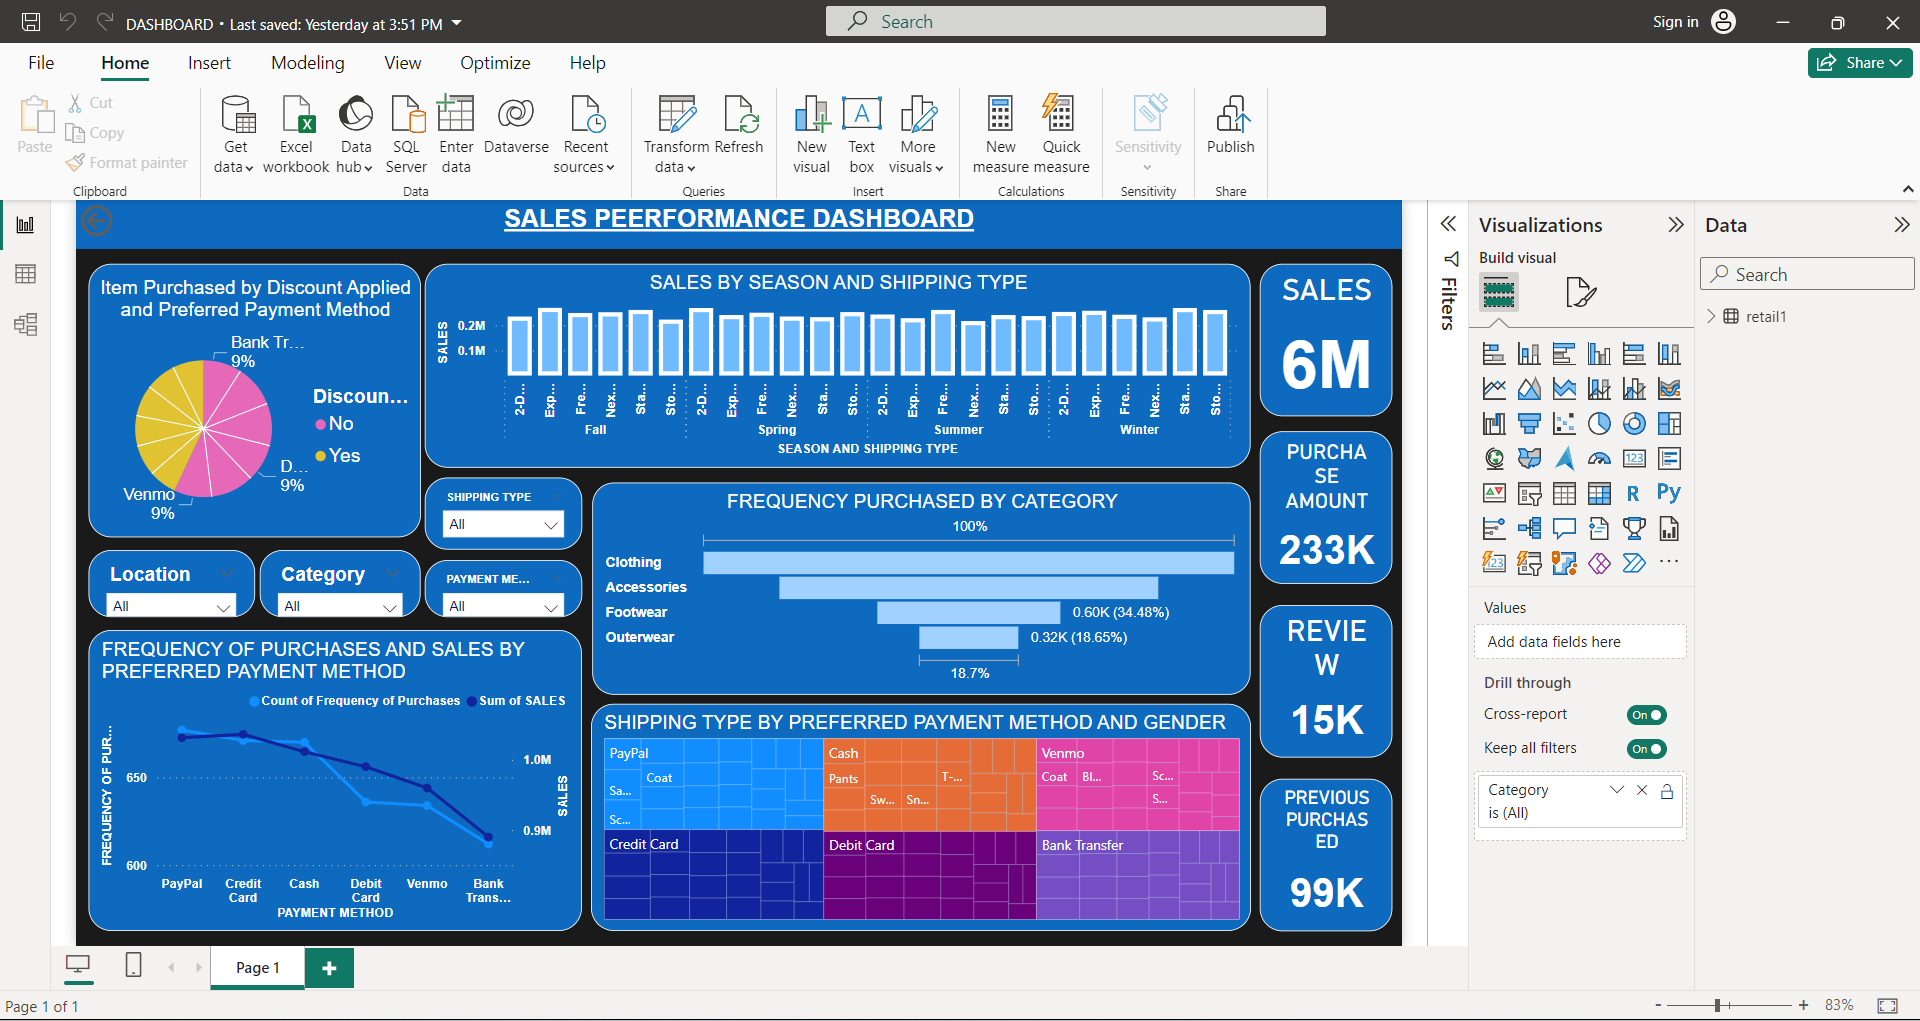

What the dashboard file says about the page in this screenshot:
{"tool":"powerbi","page":{"name":"Page 1","canvas":[1280,720],"ordinal":0},"visuals":[{"type":"textbox","box":[0,0,1279.6,47],"z":0},{"type":"card","title":"SALES","fields":{"Values":["Sum(retail1.SALES)"]},"box":[1142.1,61.5,127.8,147.1],"z":1000},{"type":"card","title":"REVIEW","fields":{"Values":["Sum(retail1.Review Rating)"]},"box":[1142.1,390.8,127.8,147.1],"z":2000},{"type":"card","title":"PURCHASE AMOUNT","fields":{"Values":["Sum(retail1.Purchase Amount (USD))"]},"box":[1142.1,223.1,127.8,147.1],"z":3000},{"type":"card","title":"PREVIOUS PURCHASED","fields":{"Values":["Sum(retail1.Previous Purchases)"]},"box":[1142.1,558.4,127.8,147.1],"z":4000},{"type":"lineStackedColumnComboChart","title":"SALES BY SEASON AND SHIPPING TYPE","fields":{"Category":["retail1.Season","retail1.Shipping Type"],"Y":["Sum(retail1.SALES)"]},"box":[336.5,61.5,797.2,196.6],"z":5000},{"type":"pieChart","title":"Item Purchased by Discount Applied and Preferred Payment Method","fields":{"Category":["retail1.Discount Applied"],"Y":["CountNonNull(retail1.Item Purchased)"],"Series":["retail1.Preferred Payment Method"]},"box":[12.1,61.5,320.8,264.1],"z":6000},{"type":"lineChart","title":"FREQUENCY OF PURCHASES AND SALES BY PREFERRED PAYMENT METHOD","fields":{"Y":["CountNonNull(retail1.Frequency of Purchases)"],"Category":["retail1.Preferred Payment Method"],"Y2":["Sum(retail1.SALES)"]},"box":[12.1,414.9,476.4,290.7],"z":7000},{"type":"treemap","title":"SHIPPING TYPE BY PREFERRED PAYMENT METHOD AND GENDER","fields":{"Group":["retail1.Preferred Payment Method"],"Values":["CountNonNull(retail1.Shipping Type)"],"Details":["retail1.Item Purchased"]},"box":[496.9,486,636.8,219.5],"z":8000},{"type":"actionButton","box":[0,0,100,40],"z":9000},{"type":"slicer","fields":{"Values":["retail1.Location"]},"box":[12.1,337.7,160.4,65.1],"z":10000},{"type":"slicer","fields":{"Values":["retail1.Category"]},"box":[177.3,337.7,155.6,65.1],"z":11000},{"type":"funnel","title":"FREQUENCY PURCHASED BY CATEGORY","fields":{"Category":["retail1.Category"],"Y":["CountNonNull(retail1.Frequency of Purchases)"]},"box":[498.1,272.6,635.6,205],"z":12000},{"type":"slicer","fields":{"Values":["retail1.Shipping Type"]},"box":[336.5,267.7,152,69.9],"z":13000},{"type":"slicer","fields":{"Values":["retail1.Preferred Payment Method"]},"box":[336.5,347.3,152,55.5],"z":14000}]}

Visuals, with their boxes on the page's 1280x720 design canvas (x1, y1, x2, y2). These are canvas units, not pixel positions in the 1920x1021 screenshot, which may show the page scaled, cropped or inside an application window:
textbox: box=[0, 0, 1280, 47]
"SALES" card: box=[1142, 62, 1270, 209]
"REVIEW" card: box=[1142, 391, 1270, 538]
"PURCHASE AMOUNT" card: box=[1142, 223, 1270, 370]
"PREVIOUS PURCHASED" card: box=[1142, 558, 1270, 706]
"SALES BY SEASON AND SHIPPING TYPE" lineStackedColumnComboChart: box=[336, 62, 1134, 258]
"Item Purchased by Discount Applied and Preferred Payment Method" pieChart: box=[12, 62, 333, 326]
"FREQUENCY OF PURCHASES AND SALES BY PREFERRED PAYMENT METHOD" lineChart: box=[12, 415, 488, 706]
"SHIPPING TYPE BY PREFERRED PAYMENT METHOD AND GENDER" treemap: box=[497, 486, 1134, 706]
actionButton: box=[0, 0, 100, 40]
slicer - retail1.Location: box=[12, 338, 172, 403]
slicer - retail1.Category: box=[177, 338, 333, 403]
"FREQUENCY PURCHASED BY CATEGORY" funnel: box=[498, 273, 1134, 478]
slicer - retail1.Shipping Type: box=[336, 268, 488, 338]
slicer - retail1.Preferred Payment Method: box=[336, 347, 488, 403]
